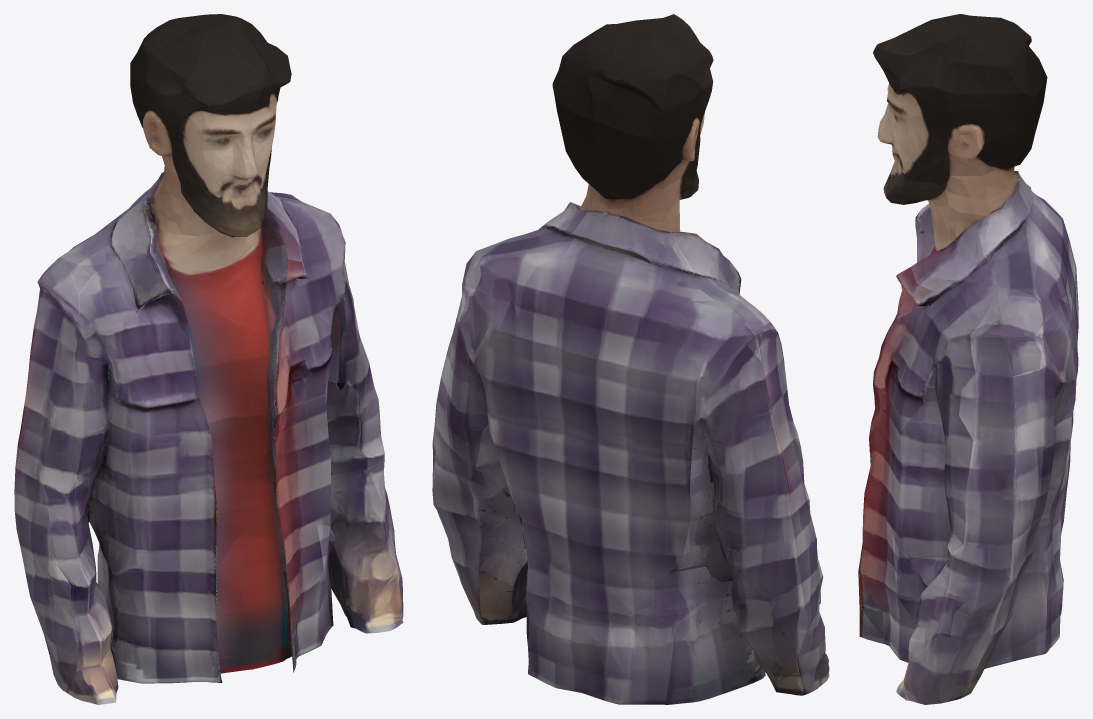
File: step_4.glb
3 renders of one model, left to right at view 1: azimuth 30°, elevation 25°; view 2: azimuth 150°, elevation 25°; view 3: azimuth 270°, elevation 25°, orthographic. The views are drawn at different scales.
Parts seen in each view (by area): view 1: geometry_0; view 2: geometry_0; view 3: geometry_0.
Part boxes in pixels (x1,y1,x2,y2): geometry_0: (14, 14, 403, 704); geometry_0: (432, 14, 829, 704); geometry_0: (858, 14, 1078, 704).
Bounding box in the file's own units: 0.5031 × 0.8284 × 0.2748.
Materials: 1 (1 with a texture image).
